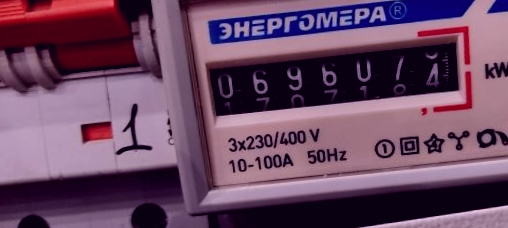0: (352, 52, 374, 84), (214, 70, 235, 100)
4: (422, 60, 441, 90)
6: (249, 65, 271, 95), (318, 58, 339, 89)
7: (388, 51, 408, 82)
9: (284, 63, 304, 92)
screen: (190, 18, 482, 136)
